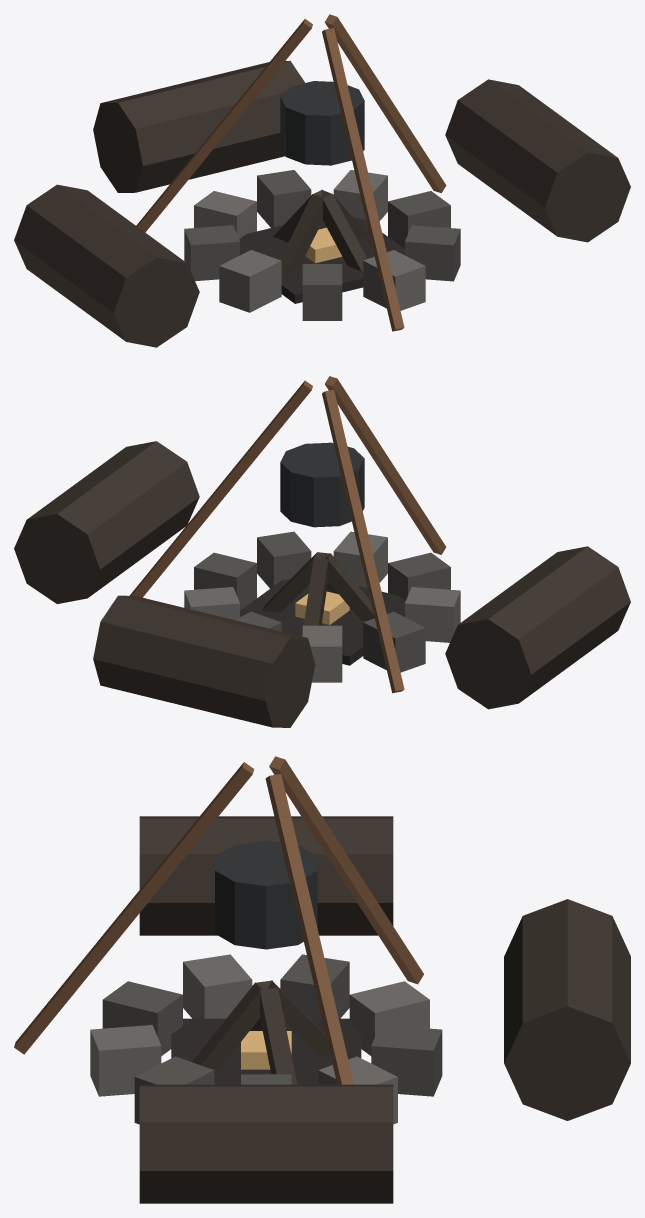
File: room_kitchen_1.glb
3 renders of one model, top to bottom at view 1: azimuth 30°, elevation 25°; view 2: azimuth 150°, elevation 25°; view 3: azimuth 270°, elevation 25°, orthographic. The views are drawn at different scales.
Parts seen in each view (by area): view 1: room_kitchen_1; view 2: room_kitchen_1; view 3: room_kitchen_1.
Part boxes in pixels (<box>): room_kitchen_1: <box>14,14,630,347</box>; room_kitchen_1: <box>14,376,630,727</box>; room_kitchen_1: <box>14,756,630,1203</box>.
Size of the model in its own units: 2.4 by 1.08 by 1.95.
